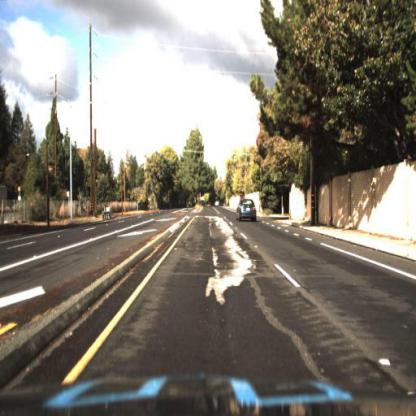car: (234, 197, 258, 225)
